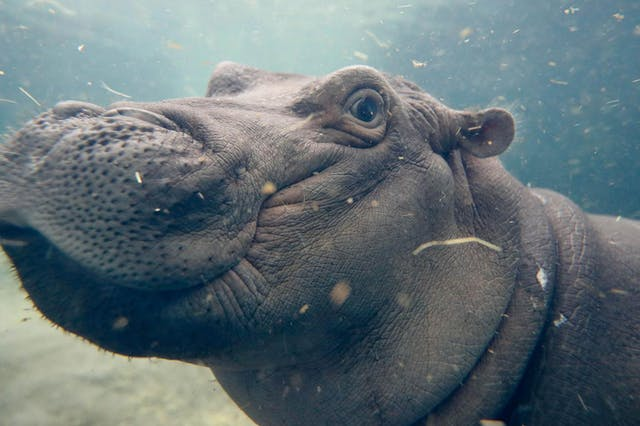Hippopotamus: (1, 63, 635, 426)
